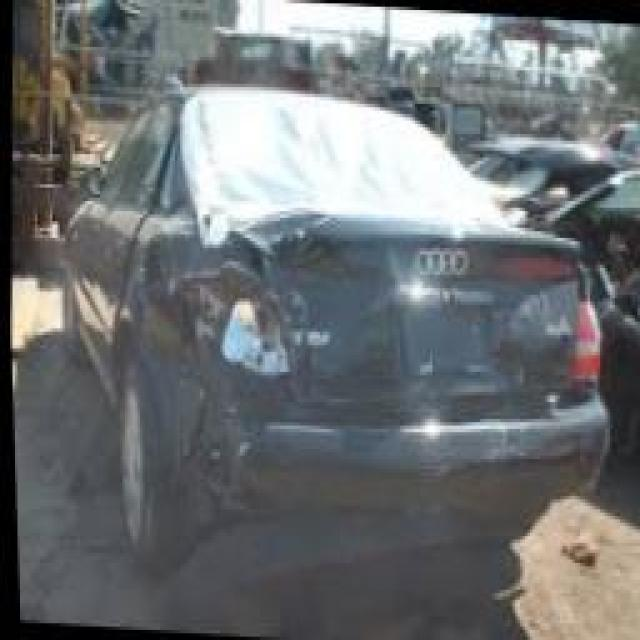rapairable: (494, 402, 537, 475)
replaceable: (157, 201, 341, 446)
